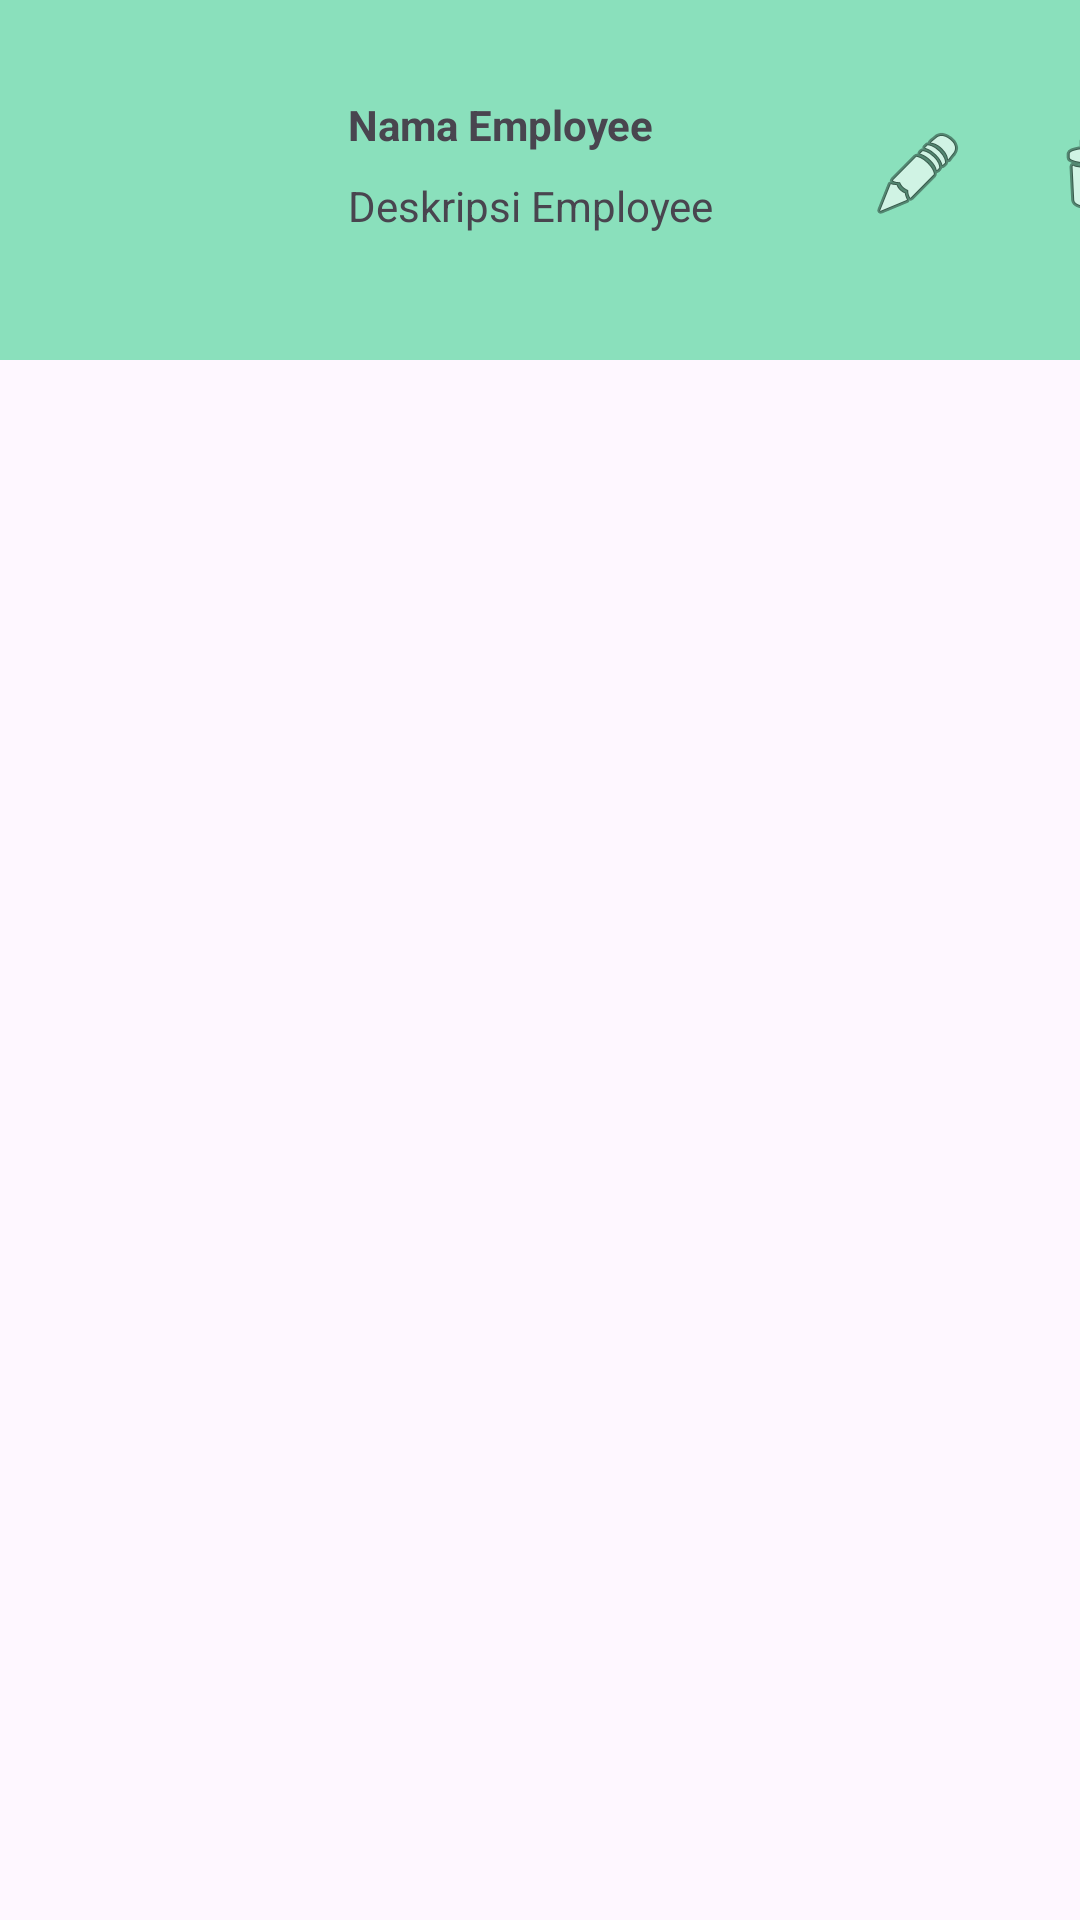

Icons on this 1080 × 1920 Android screen, each with the point to tap as (x,y):
edit: (917,173)
